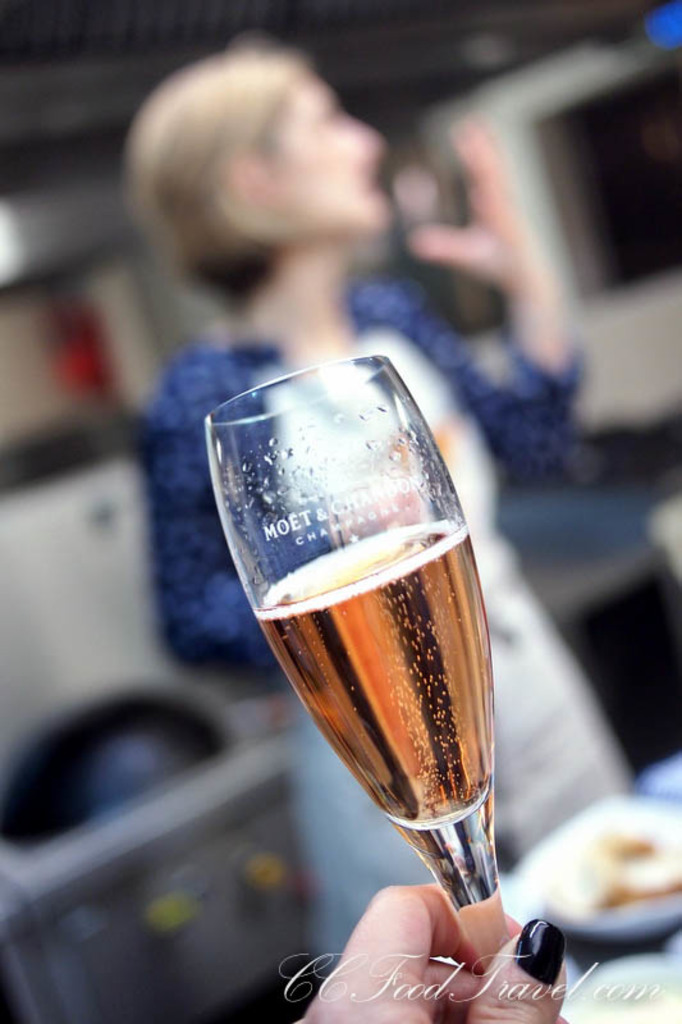Beer: (255, 517, 479, 814)
